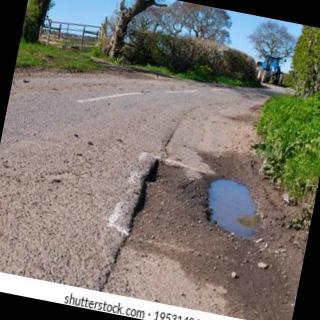pothole: (208, 179, 260, 240)
